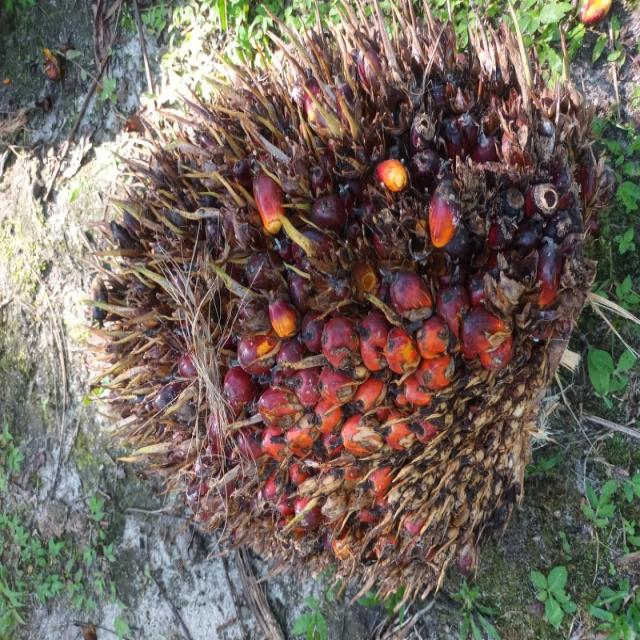fraksi 1: (53, 15, 636, 605)
